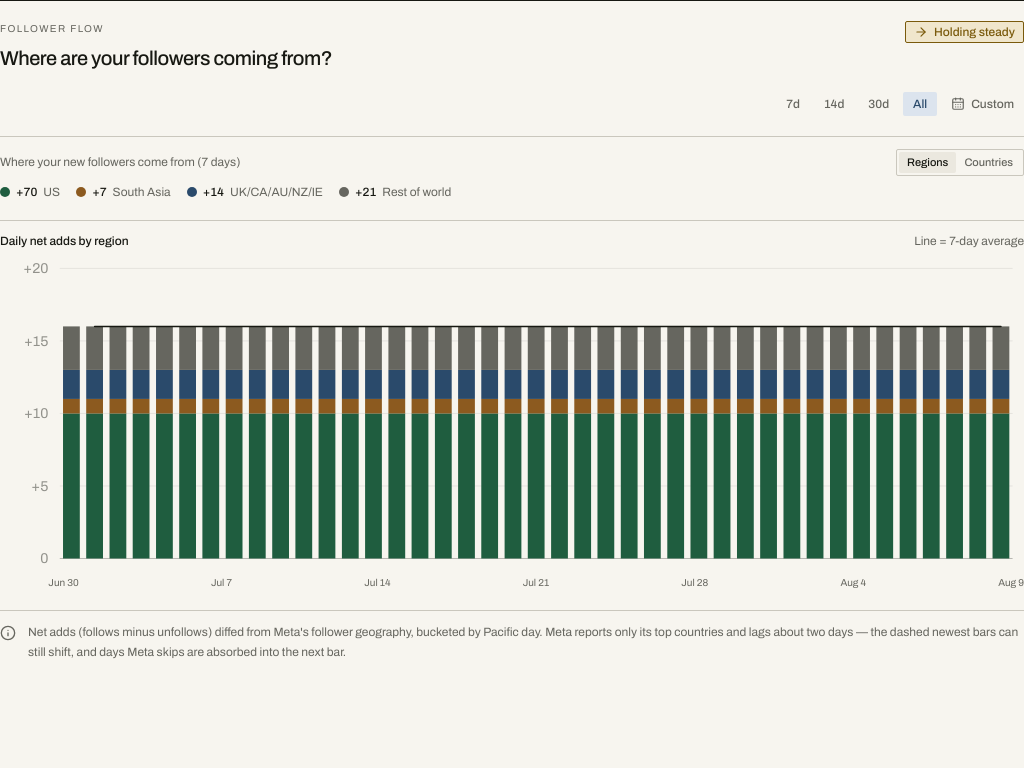
Scenario: Follower flow date filter › opens a calendar and commits a two-click custom range
The width and height of the screenshot is (1024, 768).
Click the button "Custom". click: coordinates (983, 104)
box: x1=941 y1=92 x2=1023 y2=116
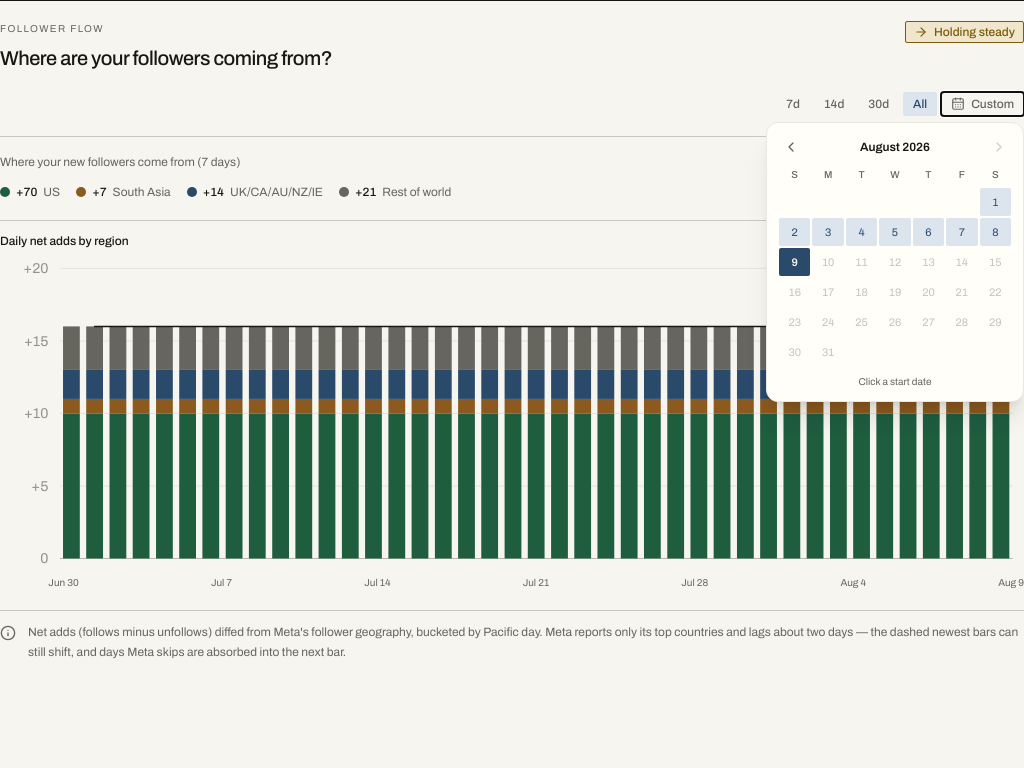
Click the button named "2026-08-01". click: coordinates (995, 202)
box: x1=980 y1=188 x2=1011 y2=216
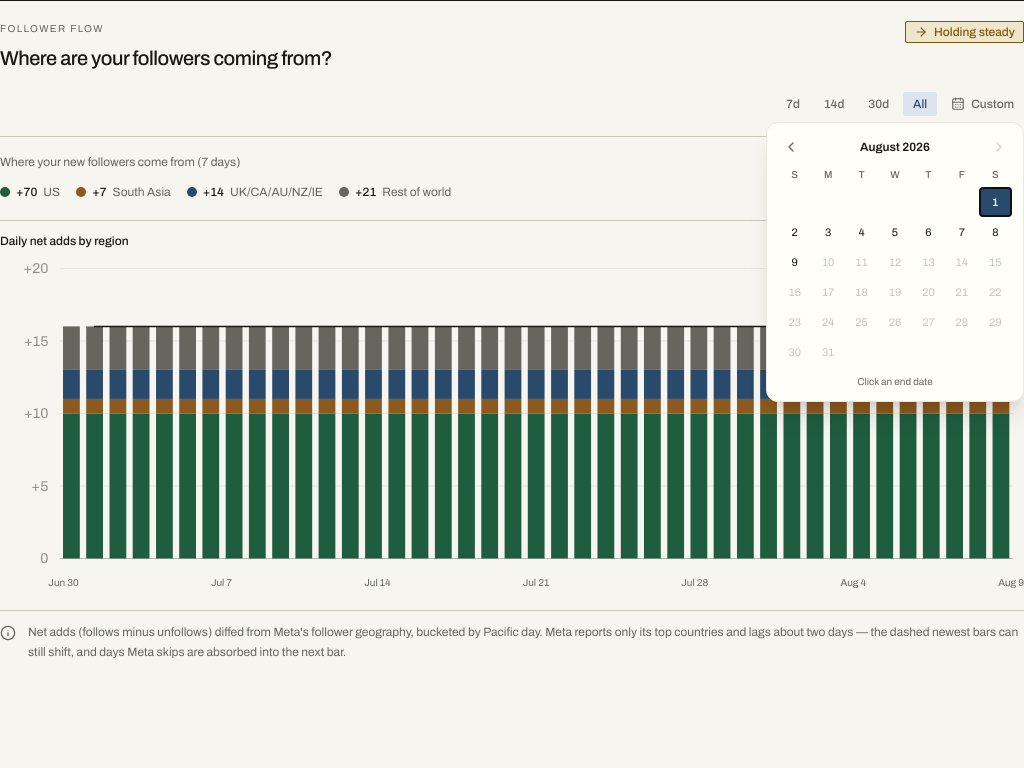
Click the button named "2026-08-05". click: coordinates (895, 232)
box: x1=879 y1=218 x2=911 y2=246
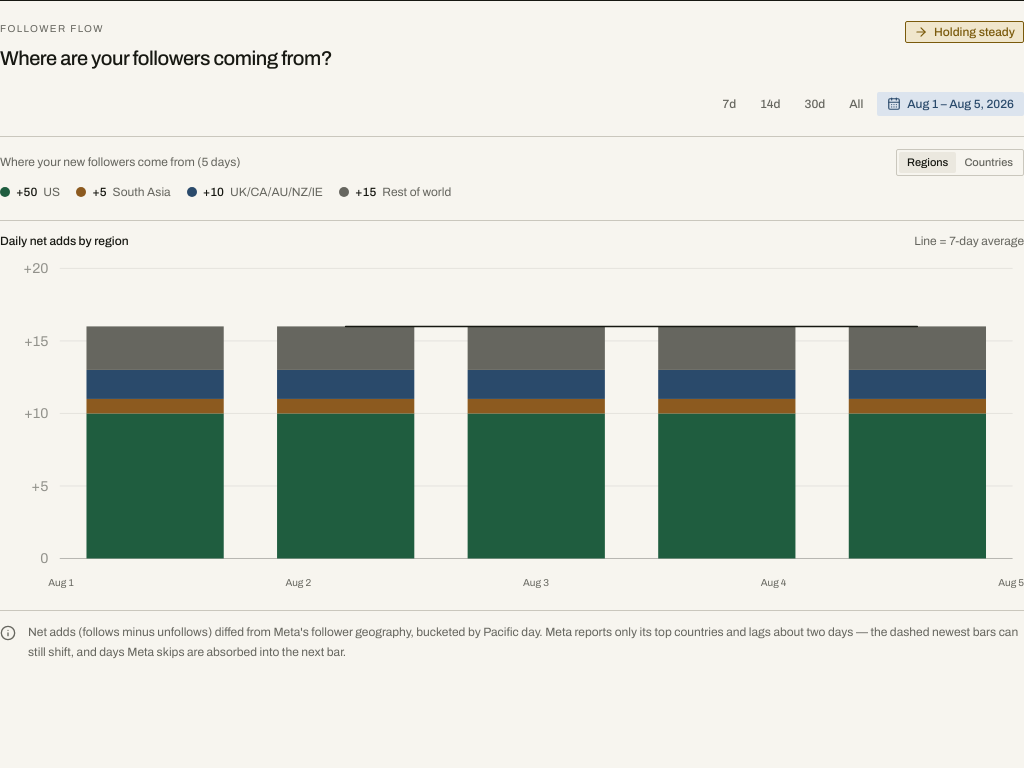
expect the text "Where your new followers come from (5 days)" is shown: met, box x1=0 y1=154 x2=241 y2=170
expect the dialog is gone: met
